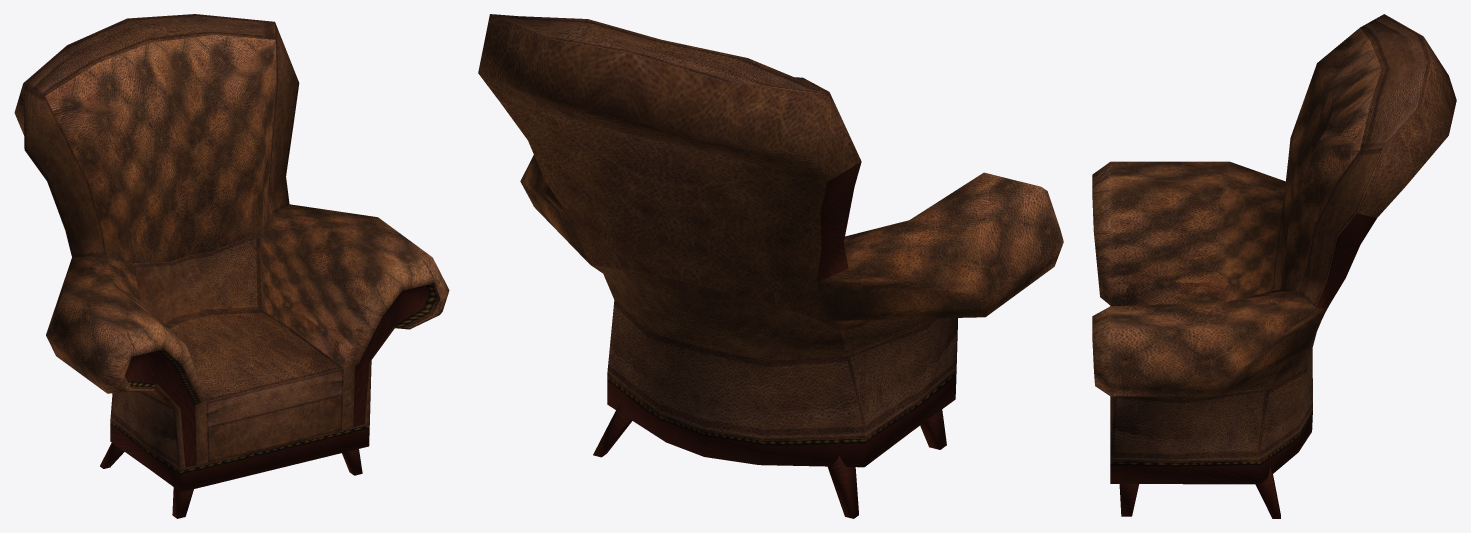
Rendered from LeatherHighback2.fbx.
The picture shows the model from 3 angles, left to right: view 1: azimuth 30°, elevation 25°; view 2: azimuth 150°, elevation 25°; view 3: azimuth 270°, elevation 25°; orthographic projection. The views are drawn at different scales.
Parts seen in each view (by area): view 1: ChamberHighChair2; view 2: ChamberHighChair2; view 3: ChamberHighChair2.
Boxes of the visible parts, x1=… form: ChamberHighChair2: x1=14, y1=14, x2=449, y2=518; ChamberHighChair2: x1=478, y1=14, x2=1063, y2=518; ChamberHighChair2: x1=1092, y1=14, x2=1456, y2=518.
Size of the model in its own units: 171 by 174 by 142.
